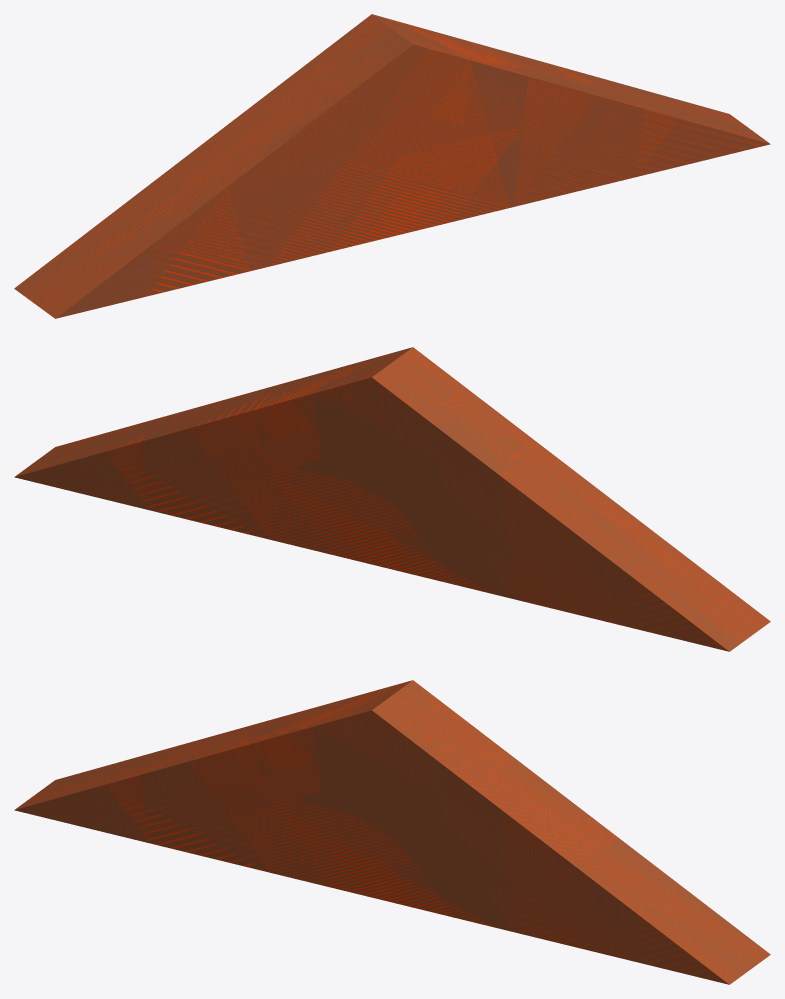
File: roof_small_gable_middle_no_roof.fbx
3 renders of one model, top to bottom at view 1: azimuth 30°, elevation 25°; view 2: azimuth 150°, elevation 25°; view 3: azimuth 330°, elevation 25°, orthographic.
Visible parts, largest first — view 1: Mesh1_Group1 Model; view 2: Mesh1_Group1 Model; view 3: Mesh1_Group1 Model.
Boxes of the visible parts, bbox=[...] form: Mesh1_Group1 Model: bbox=[14, 14, 770, 318]; Mesh1_Group1 Model: bbox=[14, 347, 770, 651]; Mesh1_Group1 Model: bbox=[14, 680, 770, 984].
Size of the model in its own units: 1 by 0.25 by 0.1.
